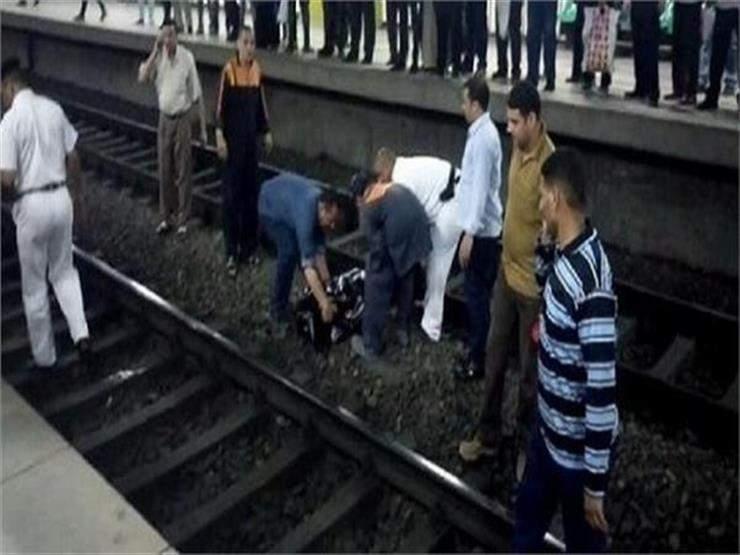person: (515, 149, 622, 555), (469, 79, 555, 468), (0, 55, 98, 387), (341, 173, 439, 361), (212, 26, 277, 277), (137, 18, 210, 240), (257, 169, 348, 335), (454, 77, 503, 383)
